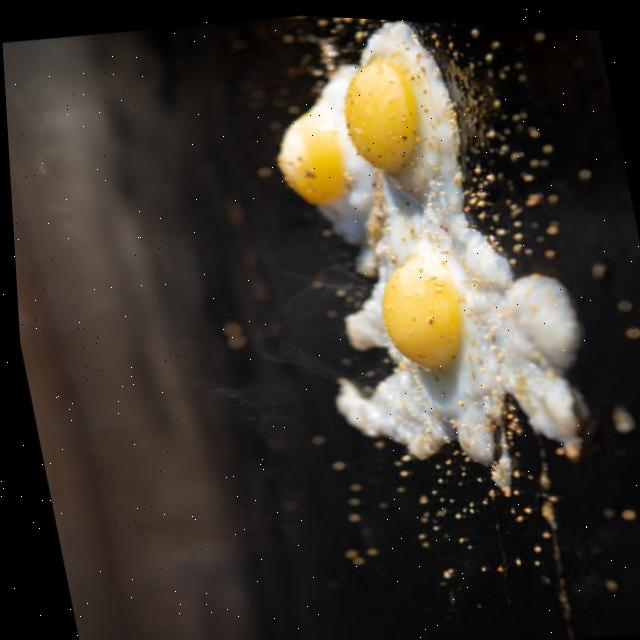Egg: (276, 18, 577, 484)
